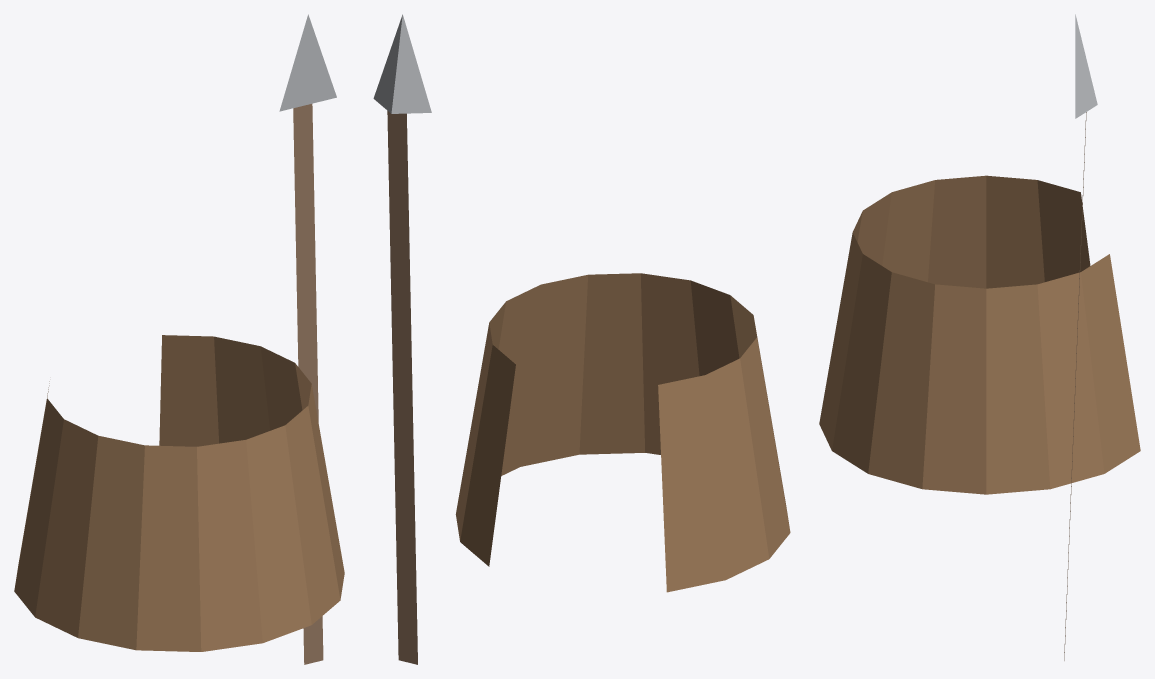
Rendered from ewok_hood_spear.glb.
3 views of the same model, side by side, from view 1: azimuth 30°, elevation 25°; view 2: azimuth 150°, elevation 25°; view 3: azimuth 270°, elevation 25° (orthographic).
Parts seen in each view (by area): view 1: ewok_hood_spear; view 2: ewok_hood_spear; view 3: ewok_hood_spear.
Part boxes in pixels (bbox=[...]): ewok_hood_spear: bbox=[14, 14, 344, 664]; ewok_hood_spear: bbox=[373, 14, 790, 664]; ewok_hood_spear: bbox=[819, 14, 1140, 660].
Size of the model in its own units: 0.36 by 0.64 by 0.2886.
